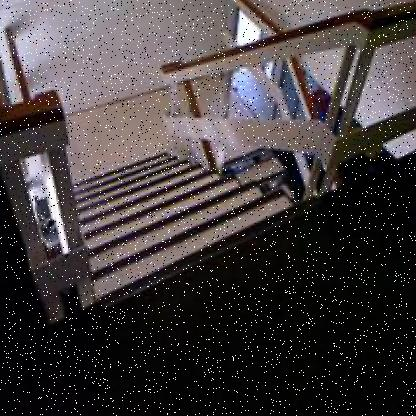stair_down: (78, 181, 333, 310)
